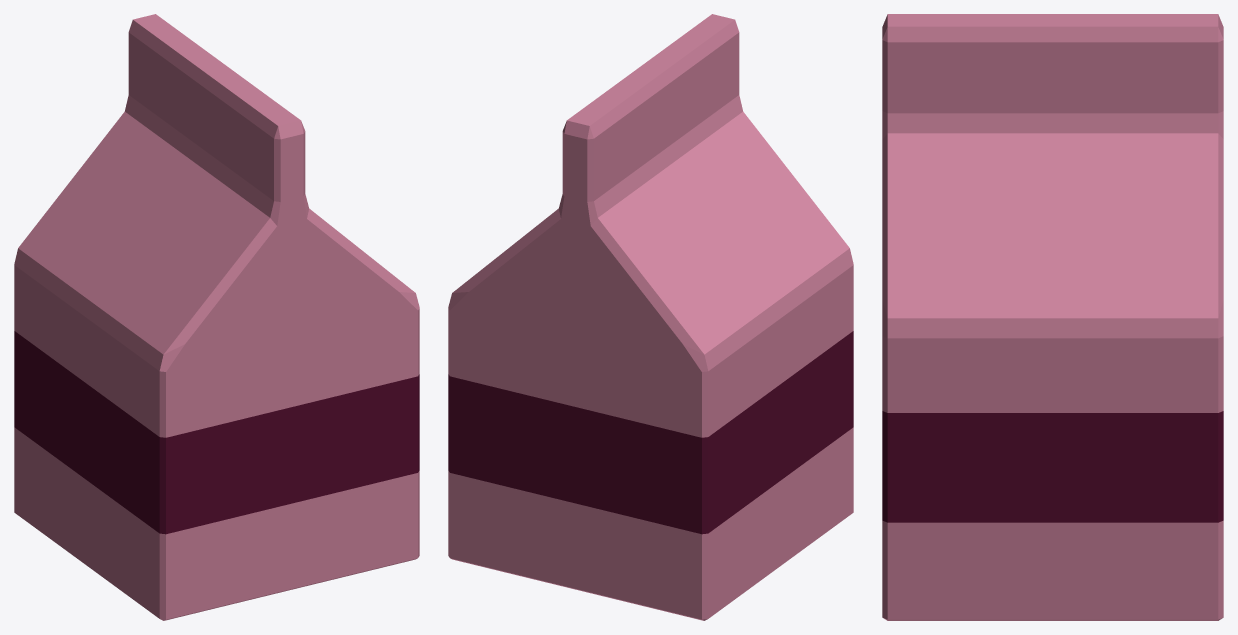
Rendered from milk_box_2_Partyassets.fbx.
3 renders of one model, left to right at view 1: azimuth 30°, elevation 25°; view 2: azimuth 150°, elevation 25°; view 3: azimuth 270°, elevation 25°, orthographic. The views are drawn at different scales.
Visible parts, largest first — view 1: milk_box_2_Partyassets; view 2: milk_box_2_Partyassets; view 3: milk_box_2_Partyassets.
Boxes of the visible parts, x1,y1,x2,y2 form: milk_box_2_Partyassets: [14, 14, 419, 620]; milk_box_2_Partyassets: [448, 14, 853, 620]; milk_box_2_Partyassets: [882, 14, 1223, 620].
Size of the model in its own units: 7.57 by 12.98 by 7.57.
